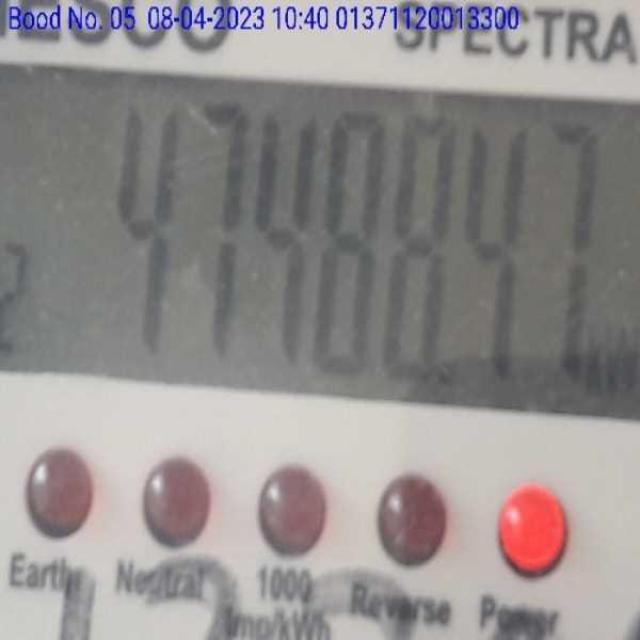4: (456, 108, 541, 392), (105, 87, 190, 368), (256, 101, 317, 378)
7: (531, 106, 634, 388), (188, 92, 254, 368)
8: (383, 106, 455, 392), (316, 108, 384, 378)
Digital meter: (0, 54, 640, 420)
point: (439, 355, 468, 397)
